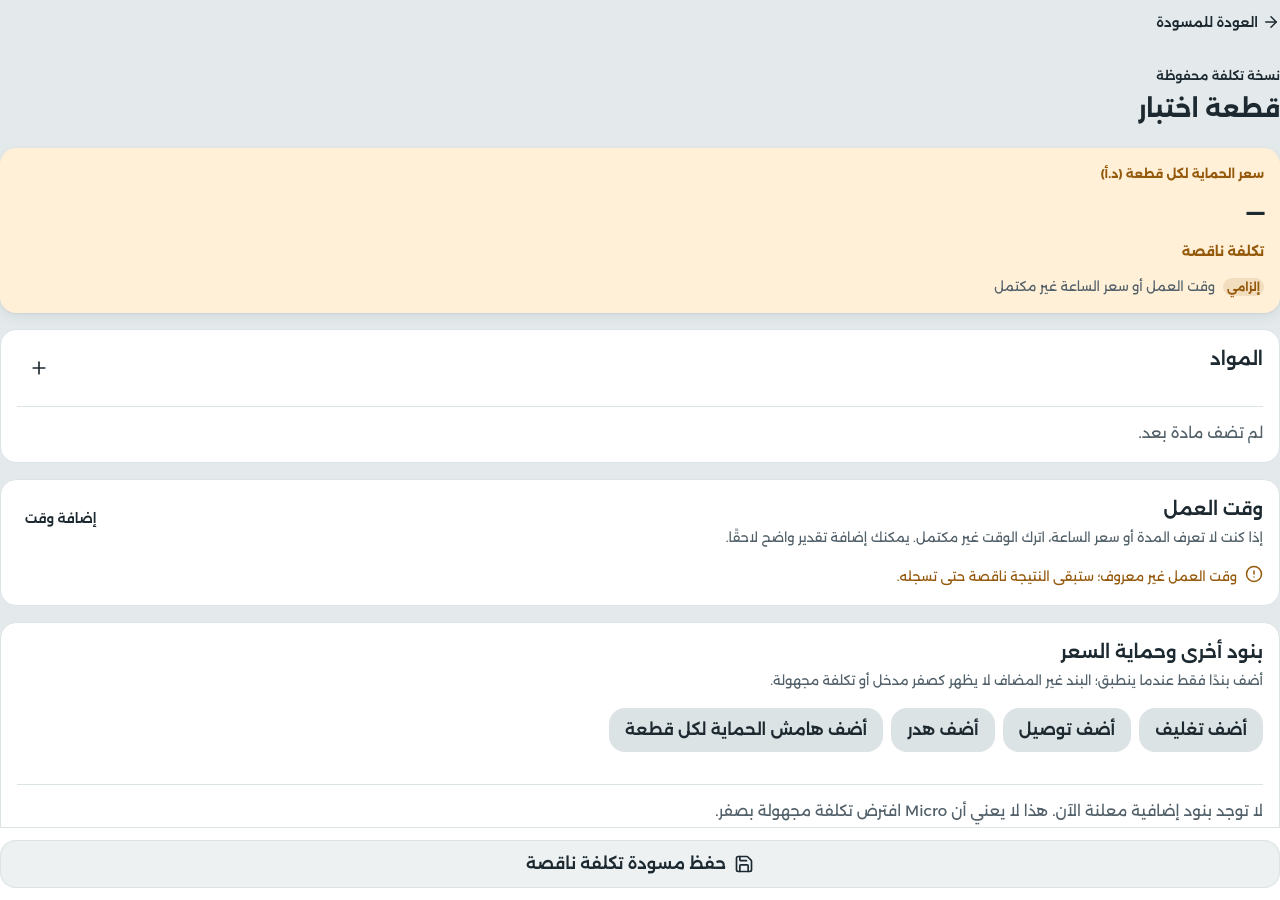
Group 2 supplier bridge card and estimate suggestions (SA-5 F6) › F6 (Scenario G): material suggestions fill the estimate row without creating any movement or event
Click the button named "إضافة مادة" at [39, 368], box top-left (17, 346), bottom-right (61, 390)
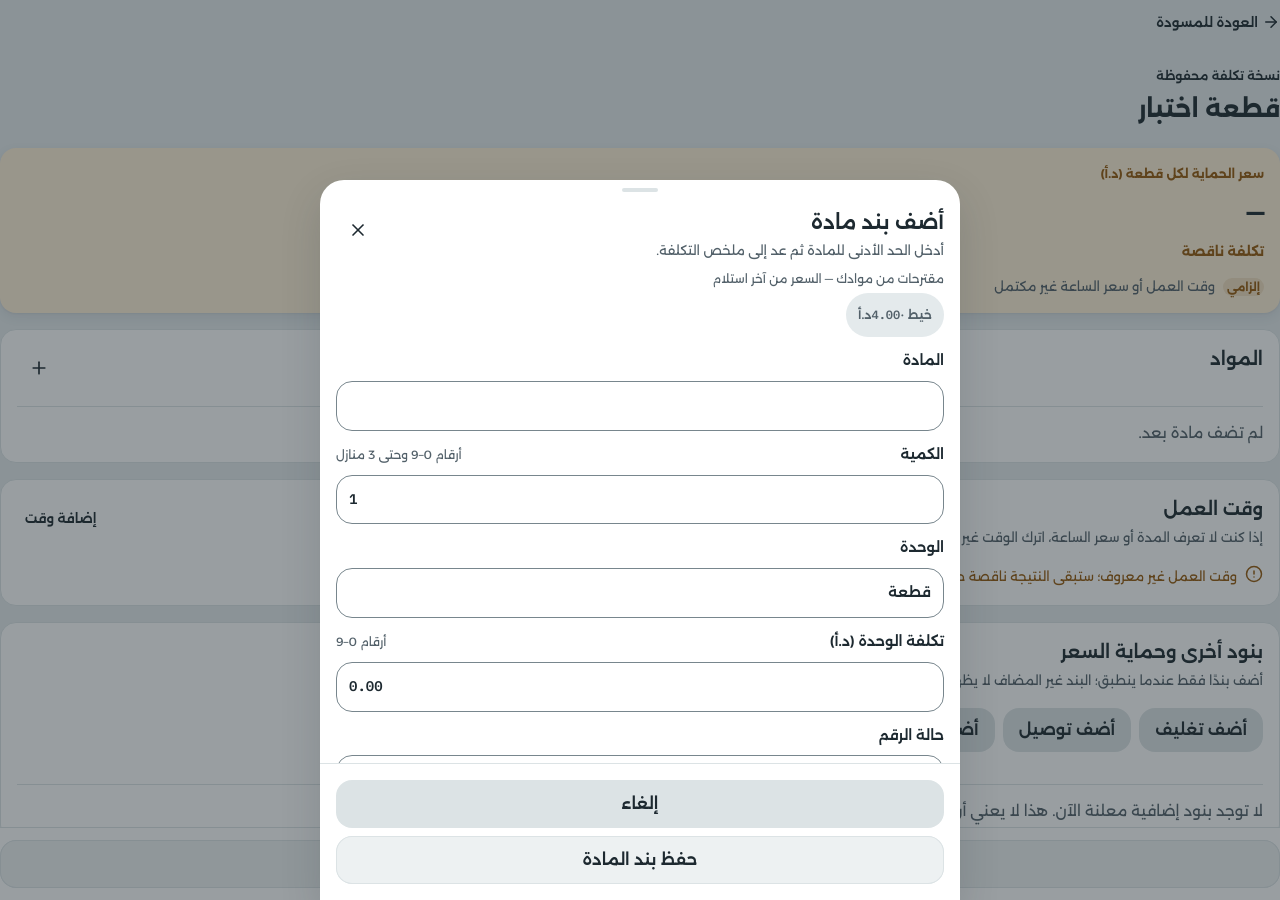
Expected: the element with test id "material-suggestions" shows "خيط"
Expected: the element with test id "material-suggestions" shows "4.00"
Click the button "خيط · 4.00 د.أ" at [895, 315], box top-left (846, 293), bottom-right (944, 337)
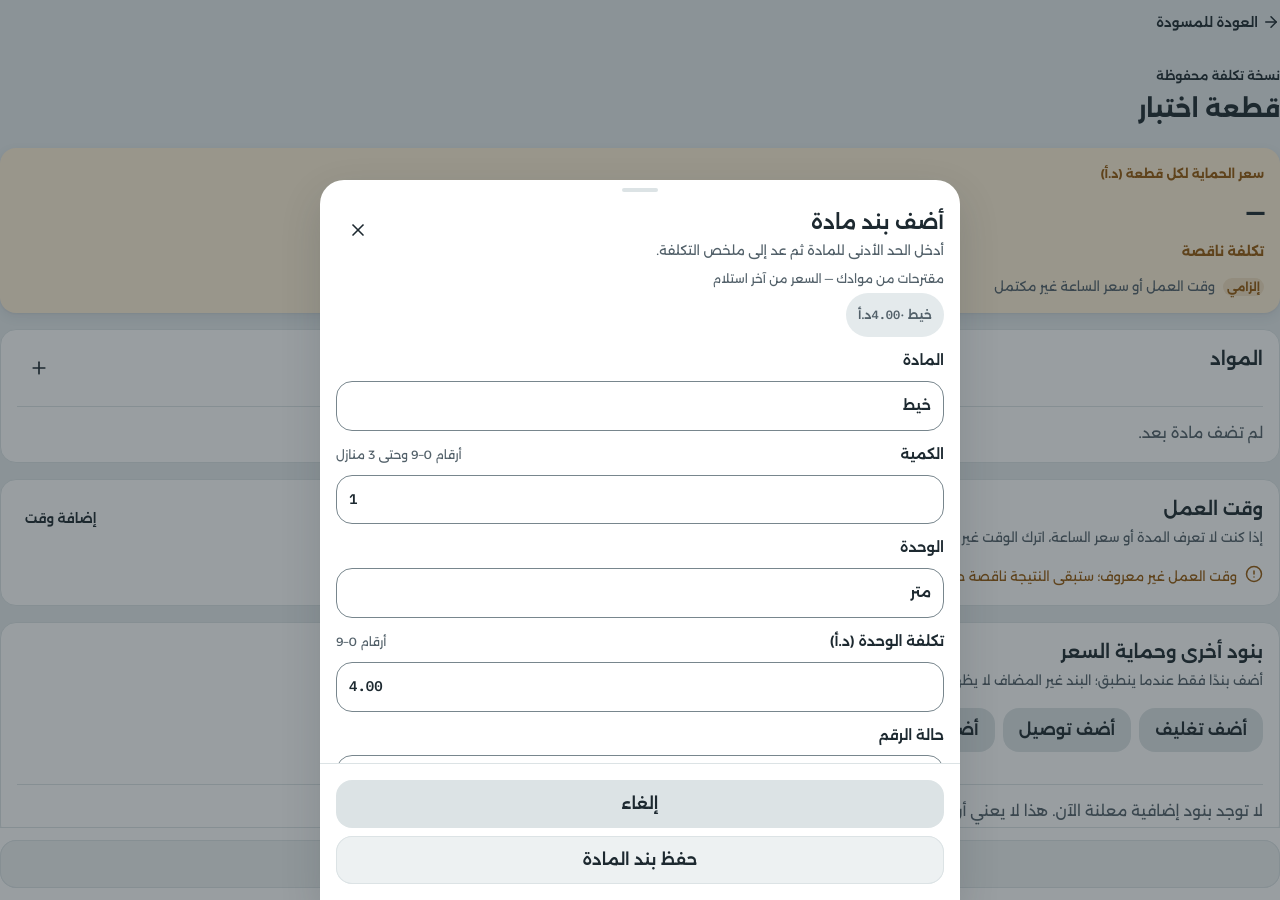
Expected: the field labelled "المادة" holds "خيط", top-left (336, 381), bottom-right (944, 431)
Expected: the field labelled "الوحدة" holds "متر", top-left (336, 568), bottom-right (944, 618)
Expected: the field labelled "تكلفة الوحدة (د.أ) أرقام 0–9" holds "4.00", top-left (336, 662), bottom-right (944, 712)
Click the button "حفظ بند المادة" at [640, 860], box top-left (336, 836), bottom-right (944, 884)
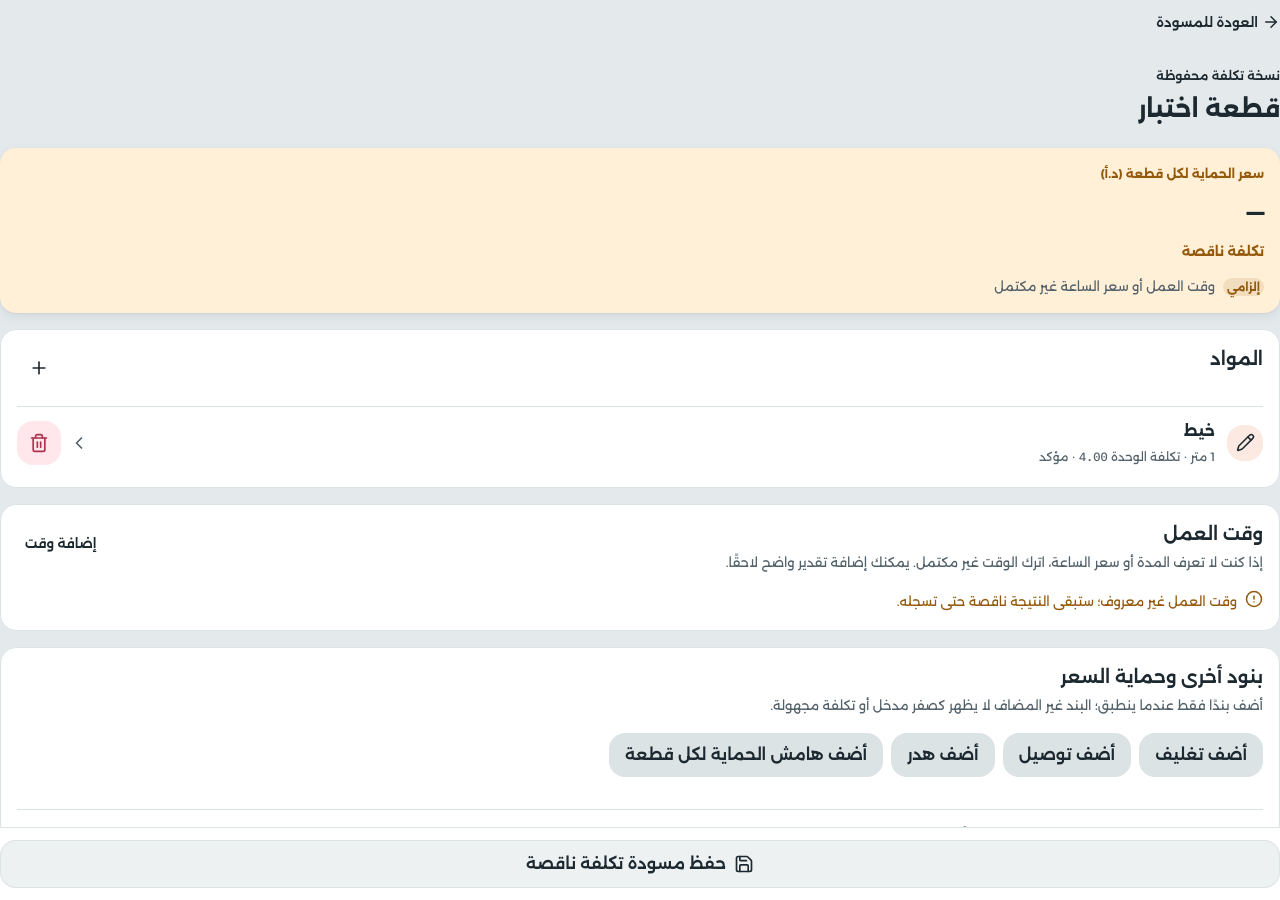
Expected: the button with aria-label "تعديل مادة خيط" is shown, top-left (69, 415), bottom-right (1263, 471)
